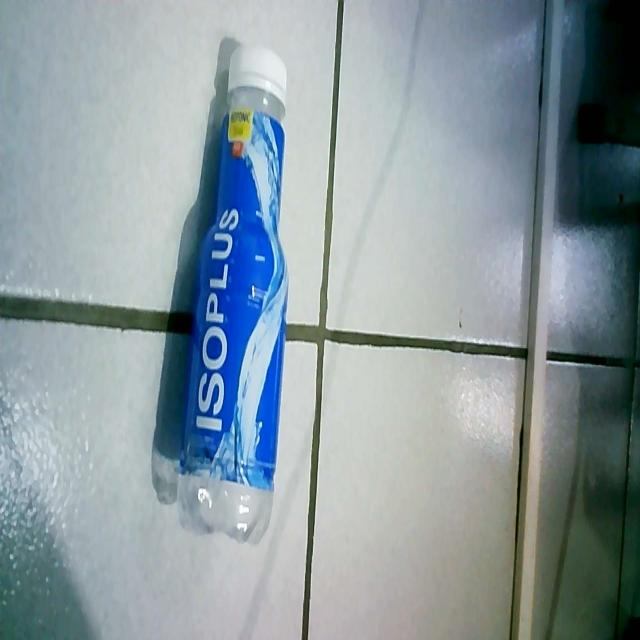botol: (167, 26, 296, 560)
